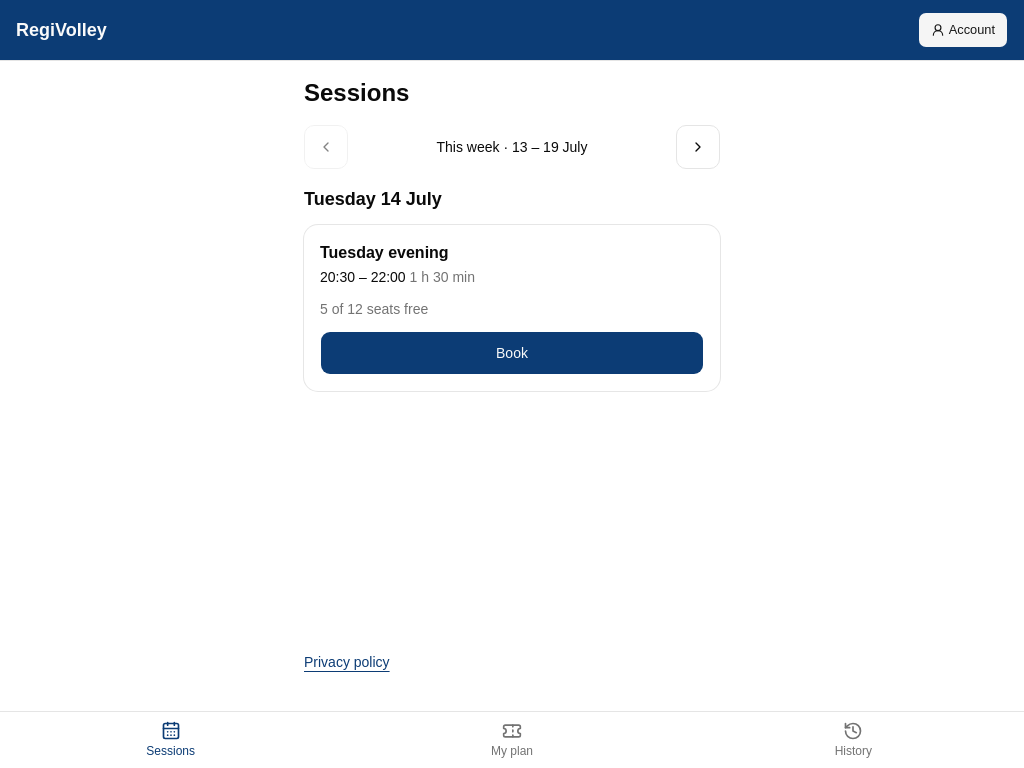
week navigation › moves to the next week and back, and shows which week it is
Check: the text "This week · 13 – 19 July" is shown, box x1=436 y1=137 x2=588 y2=157
Click the button named "Next week" at point(698, 147), box x1=676 y1=125 x2=720 y2=169
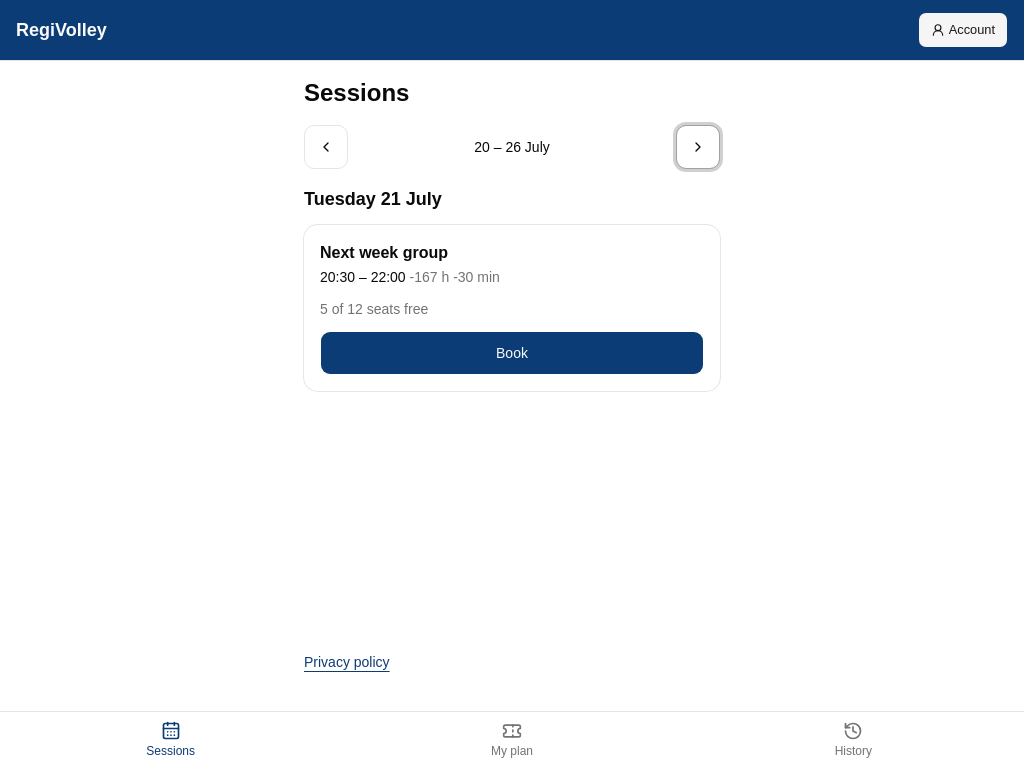
Check: the element "Next week group" is shown, box x1=304 y1=225 x2=720 y2=391
Check: the text "20 – 26 July" is shown, box x1=474 y1=137 x2=550 y2=157
Click the button named "Previous week" at point(326, 147), box x1=304 y1=125 x2=348 y2=169
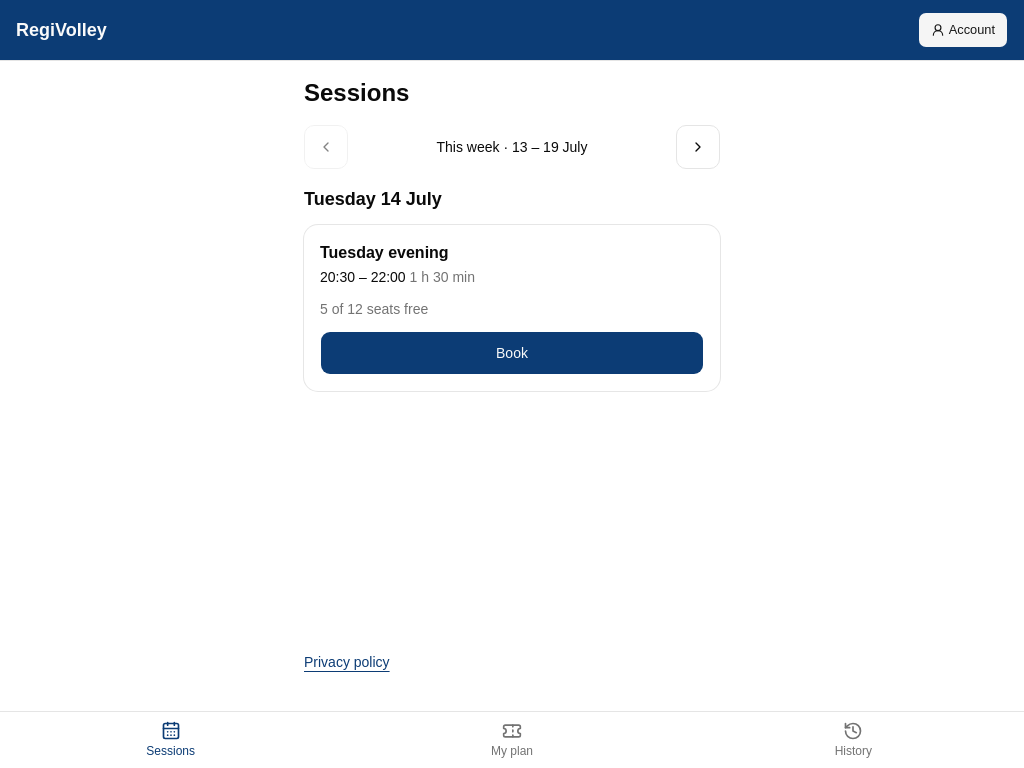
Check: the element "Tuesday evening" is shown, box x1=304 y1=225 x2=720 y2=391
